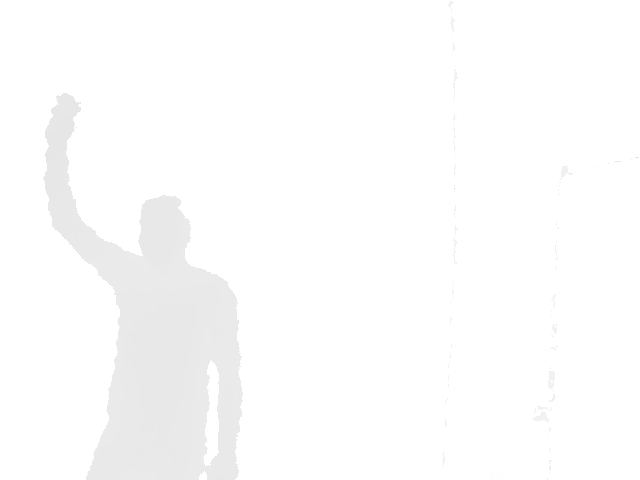hand: (43, 92, 81, 142)
head: (138, 195, 192, 265)
person: (43, 92, 244, 479)
